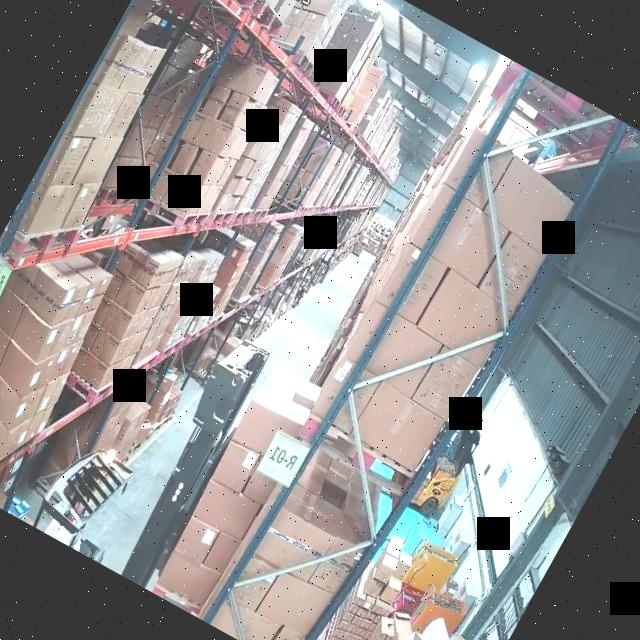box: (348, 385, 444, 473), (345, 306, 440, 392), (417, 277, 510, 363), (482, 164, 574, 246), (254, 508, 334, 582), (253, 567, 332, 640), (410, 346, 478, 421), (191, 479, 261, 544), (479, 237, 543, 308), (25, 260, 90, 325), (12, 297, 73, 359), (0, 329, 58, 393), (27, 172, 81, 240), (157, 551, 218, 607), (0, 355, 48, 422), (73, 129, 121, 191), (210, 442, 259, 496), (120, 40, 165, 96), (175, 518, 220, 564), (62, 177, 100, 231), (105, 90, 143, 143), (225, 58, 267, 101), (161, 172, 202, 215), (192, 114, 233, 156), (0, 403, 28, 451), (219, 89, 249, 126), (127, 253, 160, 286), (114, 280, 146, 312), (102, 305, 134, 337), (89, 330, 121, 362), (370, 552, 399, 586), (188, 150, 217, 184), (202, 84, 230, 118), (170, 142, 197, 177), (106, 155, 131, 191), (78, 357, 107, 385), (118, 157, 142, 190), (377, 578, 404, 607), (148, 98, 171, 131), (170, 37, 193, 68), (300, 8, 325, 36), (392, 552, 415, 577), (348, 19, 373, 42), (254, 117, 276, 143), (308, 0, 336, 19), (216, 260, 238, 284), (333, 46, 357, 68), (333, 30, 352, 51), (228, 242, 246, 263), (346, 35, 364, 55), (331, 64, 348, 81), (304, 155, 319, 173), (270, 249, 285, 267), (284, 225, 299, 242), (277, 237, 292, 254)
